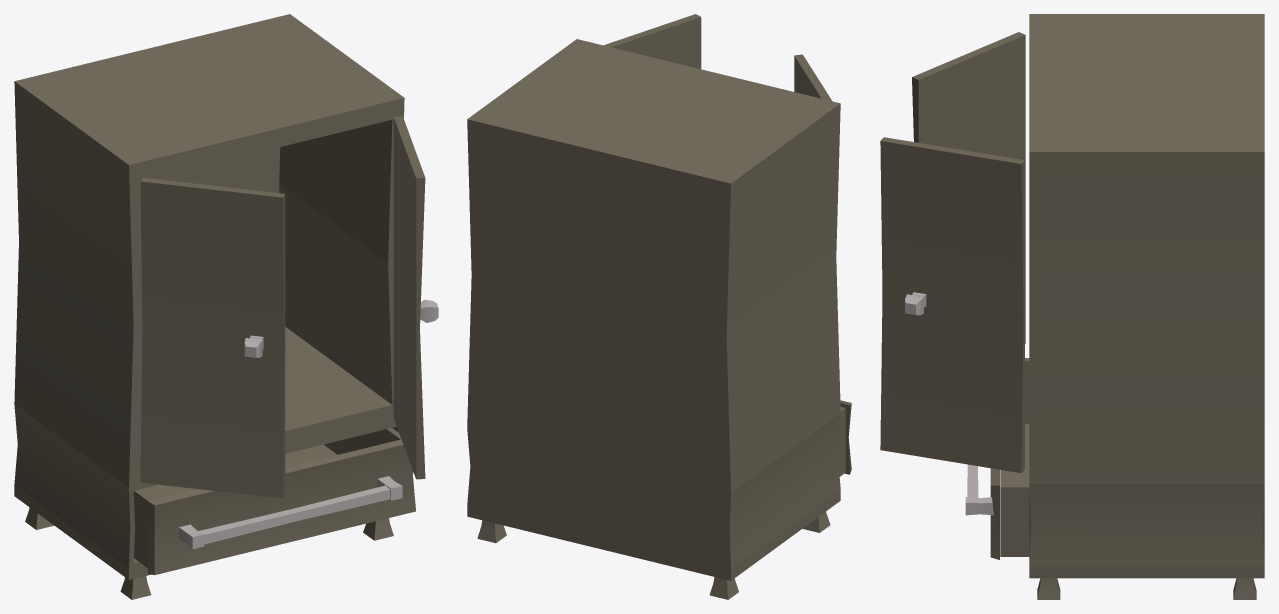
File: WardrobeBasicOpen.glb
The picture shows the model from 3 angles, left to right: view 1: azimuth 30°, elevation 25°; view 2: azimuth 150°, elevation 25°; view 3: azimuth 270°, elevation 25°; orthographic projection. The views are drawn at different scales.
Visible parts, largest first — view 1: polySurface3, pCube21, polySurface4, pCube22, pCube16, pCube27, pCube26, pCube25; view 2: polySurface3, pCube22, pCube21; view 3: polySurface3, pCube22, pCube21, pCube25, polySurface4, pCube27.
Boxes of the visible parts, x1=… form: polySurface3: x1=14, y1=14, x2=404, y2=579; pCube21: x1=140, y1=177, x2=285, y2=498; polySurface4: x1=148, y1=439, x2=415, y2=574; pCube22: x1=393, y1=116, x2=425, y2=479; pCube16: x1=199, y1=485, x2=390, y2=544; pCube27: x1=140, y1=444, x2=337, y2=499; pCube26: x1=133, y1=489, x2=153, y2=568; pCube25: x1=324, y1=428, x2=401, y2=454; polySurface3: x1=467, y1=39, x2=840, y2=580; pCube22: x1=604, y1=14, x2=701, y2=68; pCube21: x1=794, y1=54, x2=831, y2=100; polySurface3: x1=1029, y1=14, x2=1264, y2=578; pCube22: x1=880, y1=137, x2=1024, y2=473; pCube21: x1=912, y1=32, x2=1025, y2=343; pCube25: x1=1000, y1=484, x2=1029, y2=556; polySurface4: x1=990, y1=468, x2=999, y2=559; pCube27: x1=1000, y1=424, x2=1029, y2=484.
Bounding box in the file's own units: 50 × 76.17 × 58.77.
